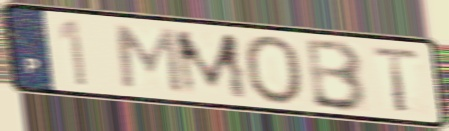1: (56, 16, 90, 89)
B: (305, 37, 371, 114)
M: (170, 29, 252, 101), (113, 22, 186, 97)
O: (241, 33, 307, 107)
T: (370, 44, 422, 115)
